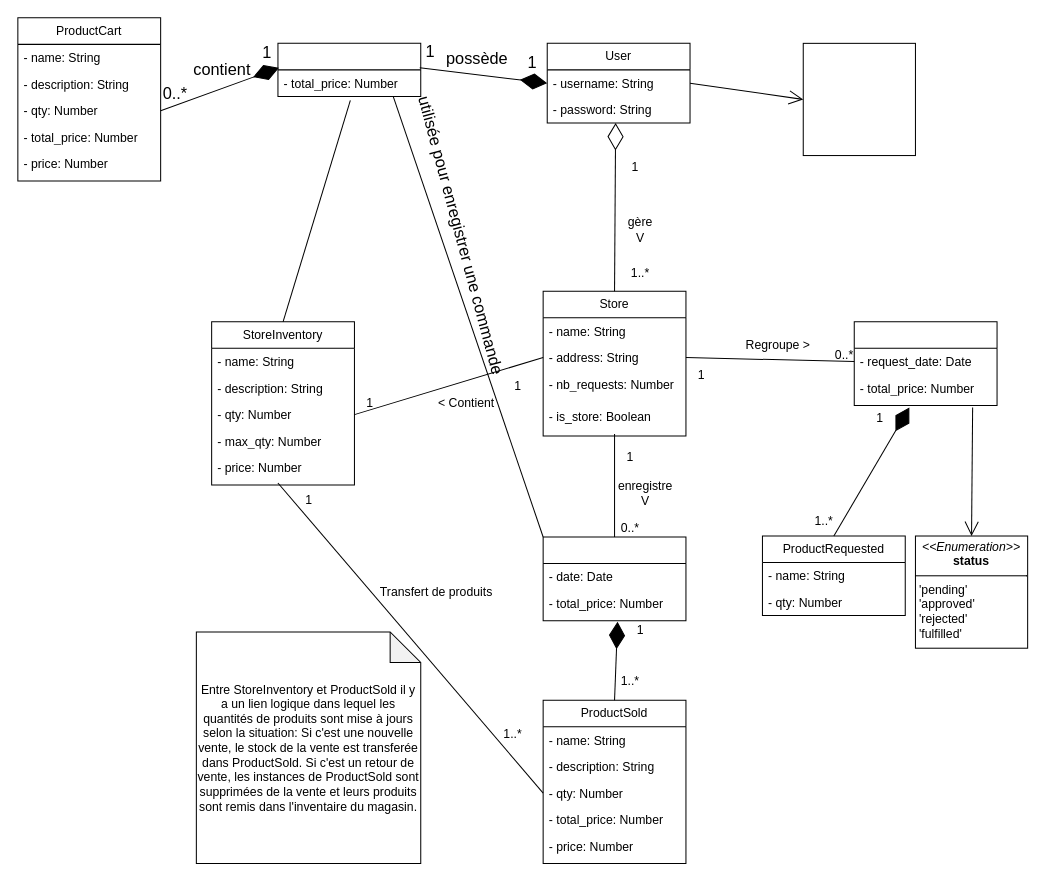
Some shapes in this 1046 by 884 pixel diagram are drawn without their labels. The shapes that lost their labels are listed below. From the top down, each one's box as (x1, y1, x2, y2) in pixels, then its label:
(277, 42, 421, 96): Cart
(802, 42, 915, 156): <<Enumeration>> type 'admin' 'seller' 'buyer'
(853, 321, 997, 405): SupplyRequest
(542, 536, 686, 621): StoreSale
